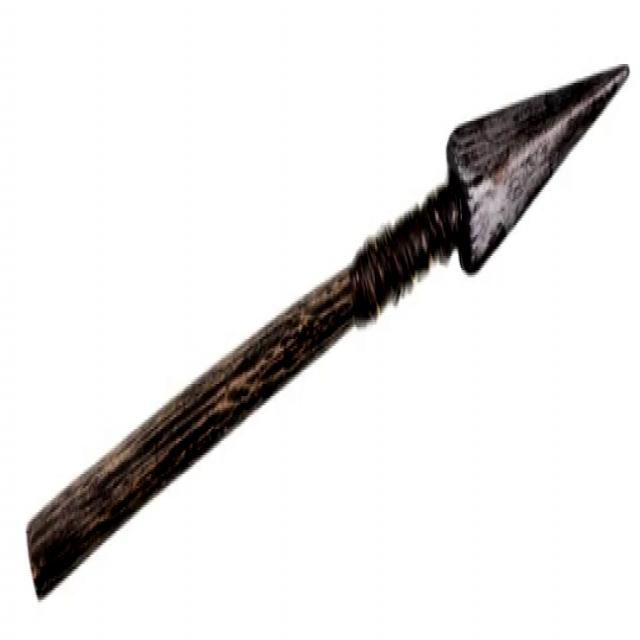spear: (21, 48, 634, 619)
